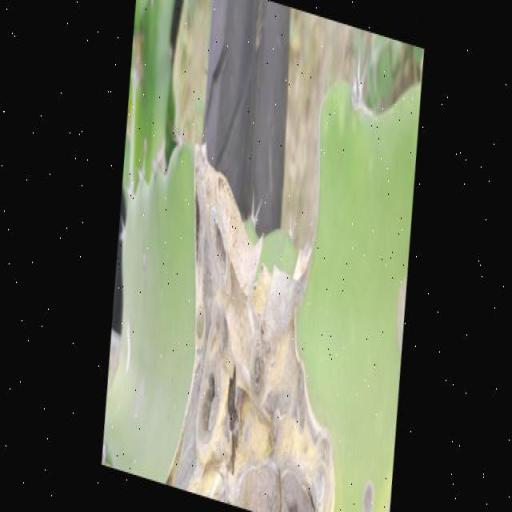stemcanker: (98, 440, 186, 494), (91, 494, 281, 512), (121, 447, 159, 487), (140, 38, 174, 75)
